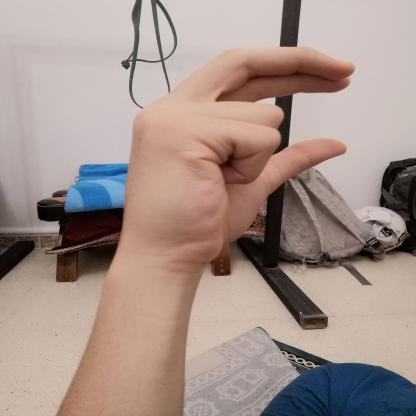DHELL: (99, 35, 371, 274)
